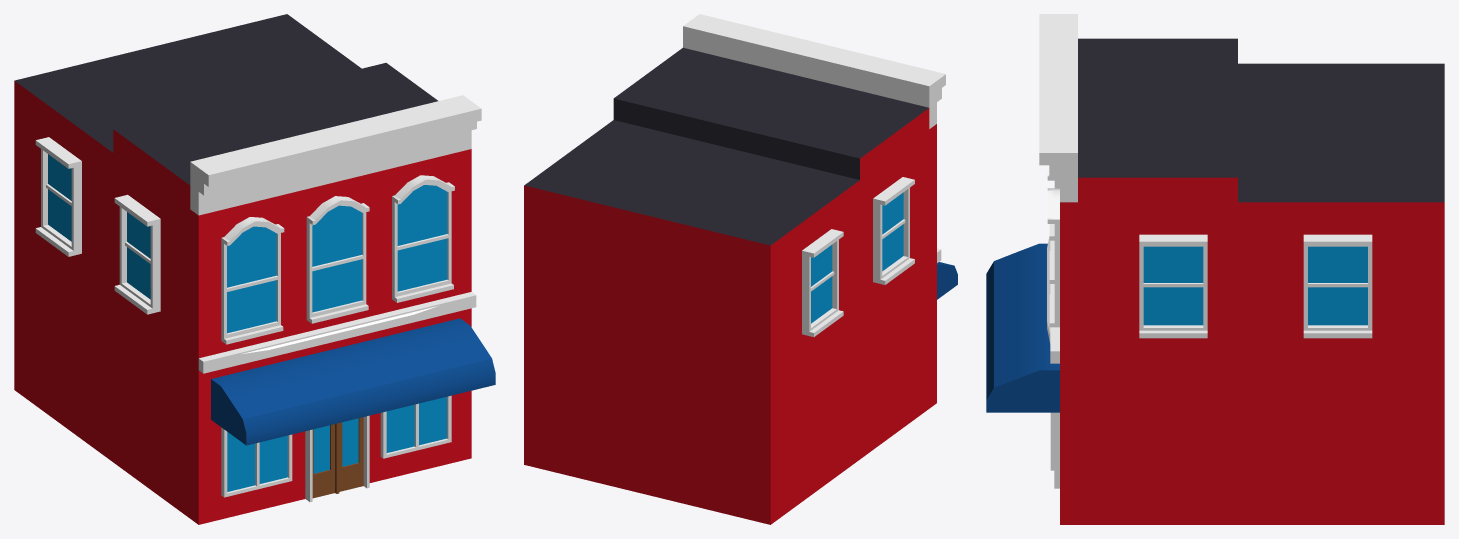
The model's file is Building_14.fbx.
The picture shows the model from 3 angles, left to right: view 1: azimuth 30°, elevation 25°; view 2: azimuth 150°, elevation 25°; view 3: azimuth 270°, elevation 25°; orthographic projection. The views are drawn at different scales.
Parts seen in each view (by area): view 1: B14; view 2: B14; view 3: B14.
Boxes of the visible parts, bbox=[...] form: B14: bbox=[14, 14, 495, 524]; B14: bbox=[524, 14, 957, 524]; B14: bbox=[986, 14, 1444, 524].
Bounding box in the file's own units: 13.18 × 15 × 16.73.
1 material, 1 textured.
